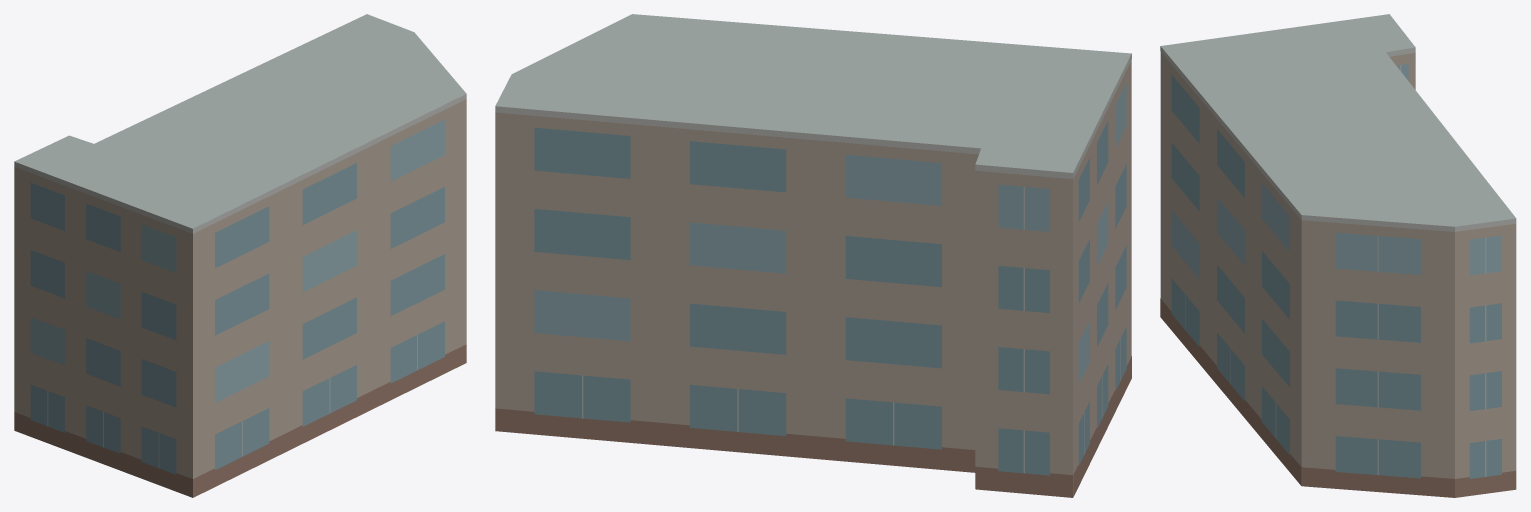
Rendered from survey-upis-32533791.glb.
3 views of the same model, side by side, from view 1: azimuth 30°, elevation 25°; view 2: azimuth 150°, elevation 25°; view 3: azimuth 270°, elevation 25° (orthographic). The views are drawn at different scales.
Parts seen in each view (by area): view 1: survey-upis-32533791.tmp; view 2: survey-upis-32533791.tmp; view 3: survey-upis-32533791.tmp.
Part boxes in pixels (x1,y1,x2,y2): survey-upis-32533791.tmp: (14, 14, 466, 497); survey-upis-32533791.tmp: (495, 14, 1131, 497); survey-upis-32533791.tmp: (1160, 14, 1516, 497).
Size of the model in its own units: 21.63 by 12.85 by 15.3.
